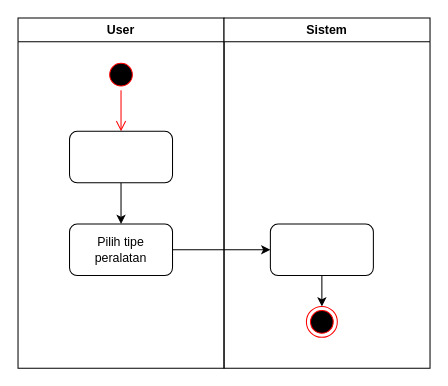
Some shapes in this 448 by 386 pixel diagram are drawn without their labels. Here are the shapes that lost their labels. From the top down, the centre of each, then its label:
At pixel 120 156: "Pilih Master Data pada Sidebar".
At pixel 321 249: "Menampilkan halaman kategori peralatan".
